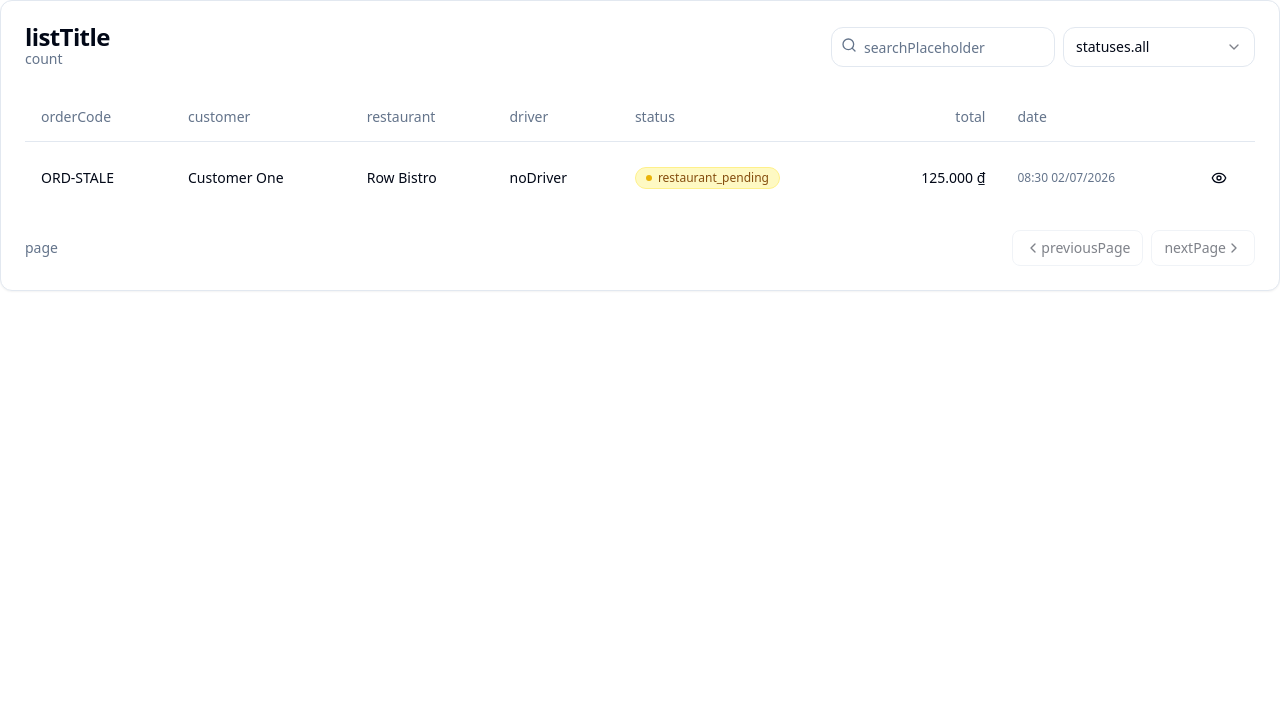
Test: admin detail sheets › shows a retryable order detail error instead of stale row data
Expected: the text "ORD-STALE" is shown, [25,141,172,214]
Click the button named "viewOrder": (1219, 178) [1199,158,1239,198]
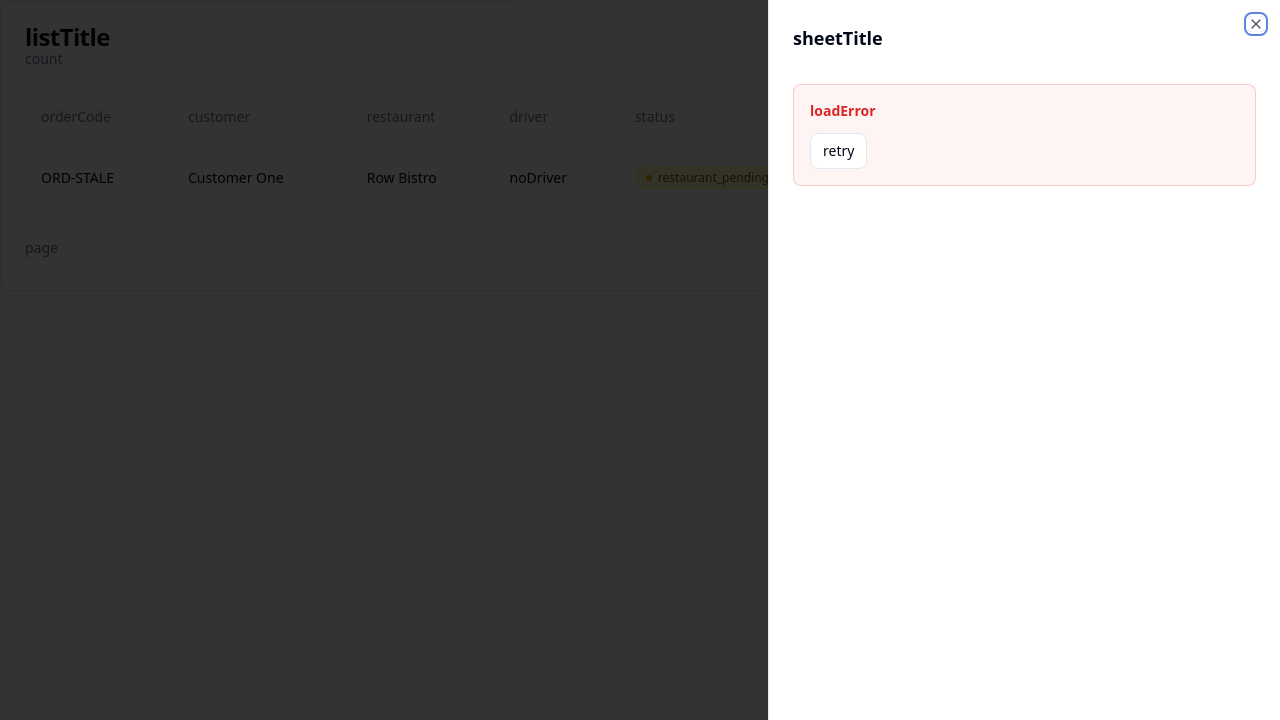
Now the message shows "loadError", box [810,101,876,120]
